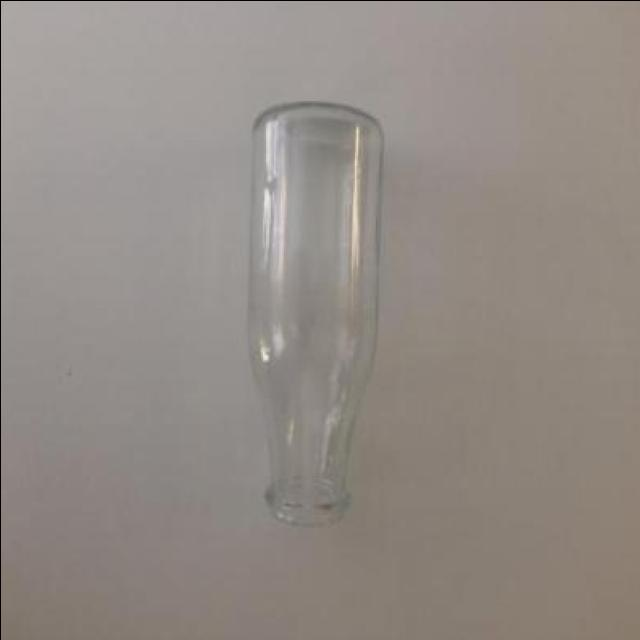kaca: (252, 103, 385, 526)
